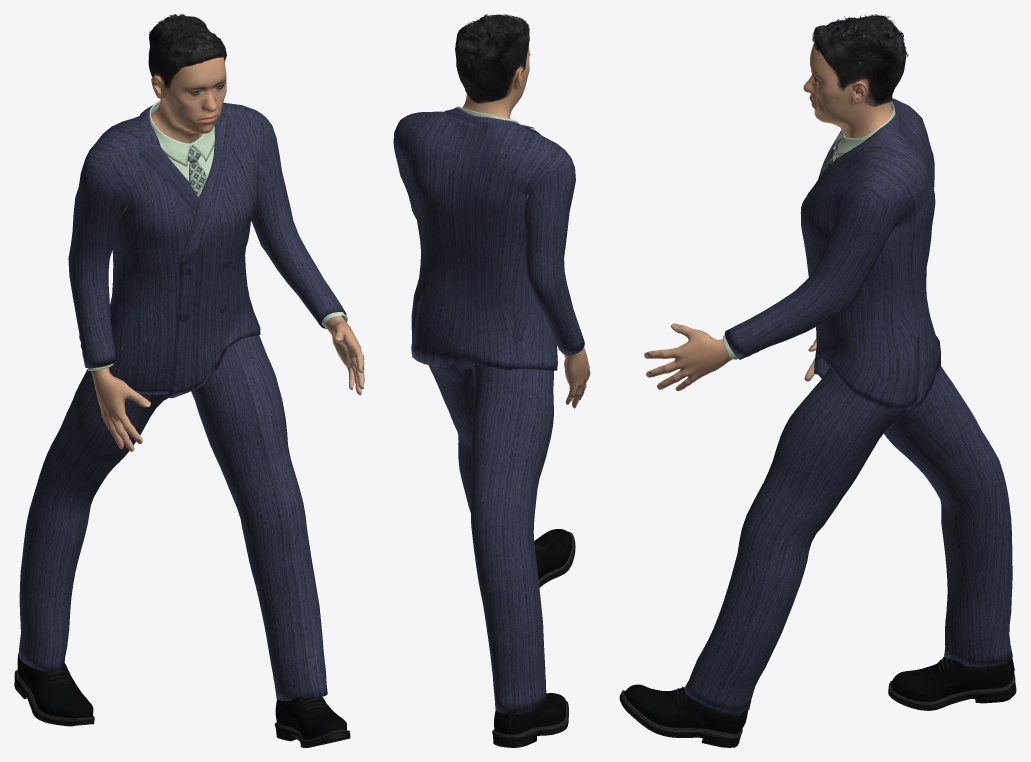
The model's file is uomo-05.glb.
The picture shows the model from 3 angles, left to right: view 1: azimuth 30°, elevation 25°; view 2: azimuth 150°, elevation 25°; view 3: azimuth 270°, elevation 25°; orthographic projection. The views are drawn at different scales.
Visible parts, largest first — view 1: Human.toigo_male_double-breasted_suit, Human, Human.shoes03, Human.short01; view 2: Human.toigo_male_double-breasted_suit, Human.short01, Human.shoes03, Human; view 3: Human.toigo_male_double-breasted_suit, Human.shoes03, Human, Human.short01.
Part boxes in pixels (x1,y1,x2,y2): Human.toigo_male_double-breasted_suit: [18, 100, 347, 700]; Human: [91, 57, 364, 451]; Human.shoes03: [14, 653, 350, 747]; Human.short01: [148, 14, 226, 89]; Human.toigo_male_double-breasted_suit: [393, 106, 584, 713]; Human.short01: [455, 14, 529, 103]; Human.shoes03: [492, 529, 575, 747]; Human: [462, 46, 590, 408]; Human.toigo_male_double-breasted_suit: [684, 98, 1012, 713]; Human.shoes03: [619, 656, 1016, 747]; Human: [644, 42, 892, 390]; Human.short01: [812, 14, 908, 106].
Bounding box in the file's own units: 0.5876 × 1.86 × 0.9222.
12 materials, 12 textured.
